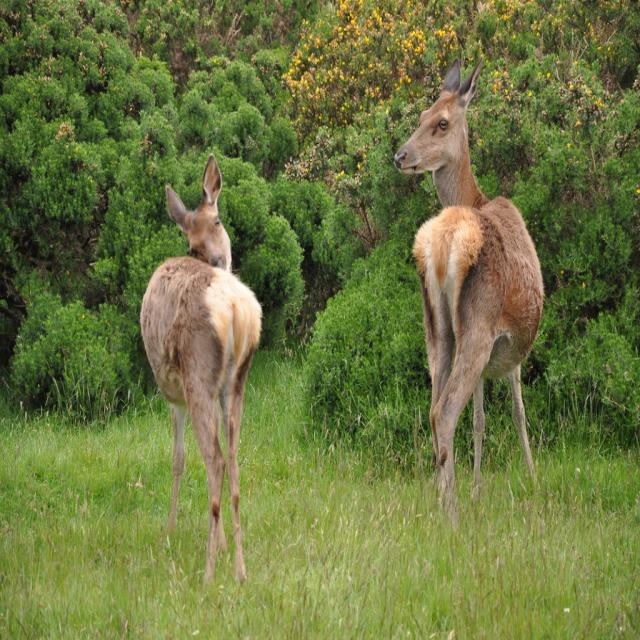Deer: (394, 53, 546, 535), (140, 152, 266, 591)
